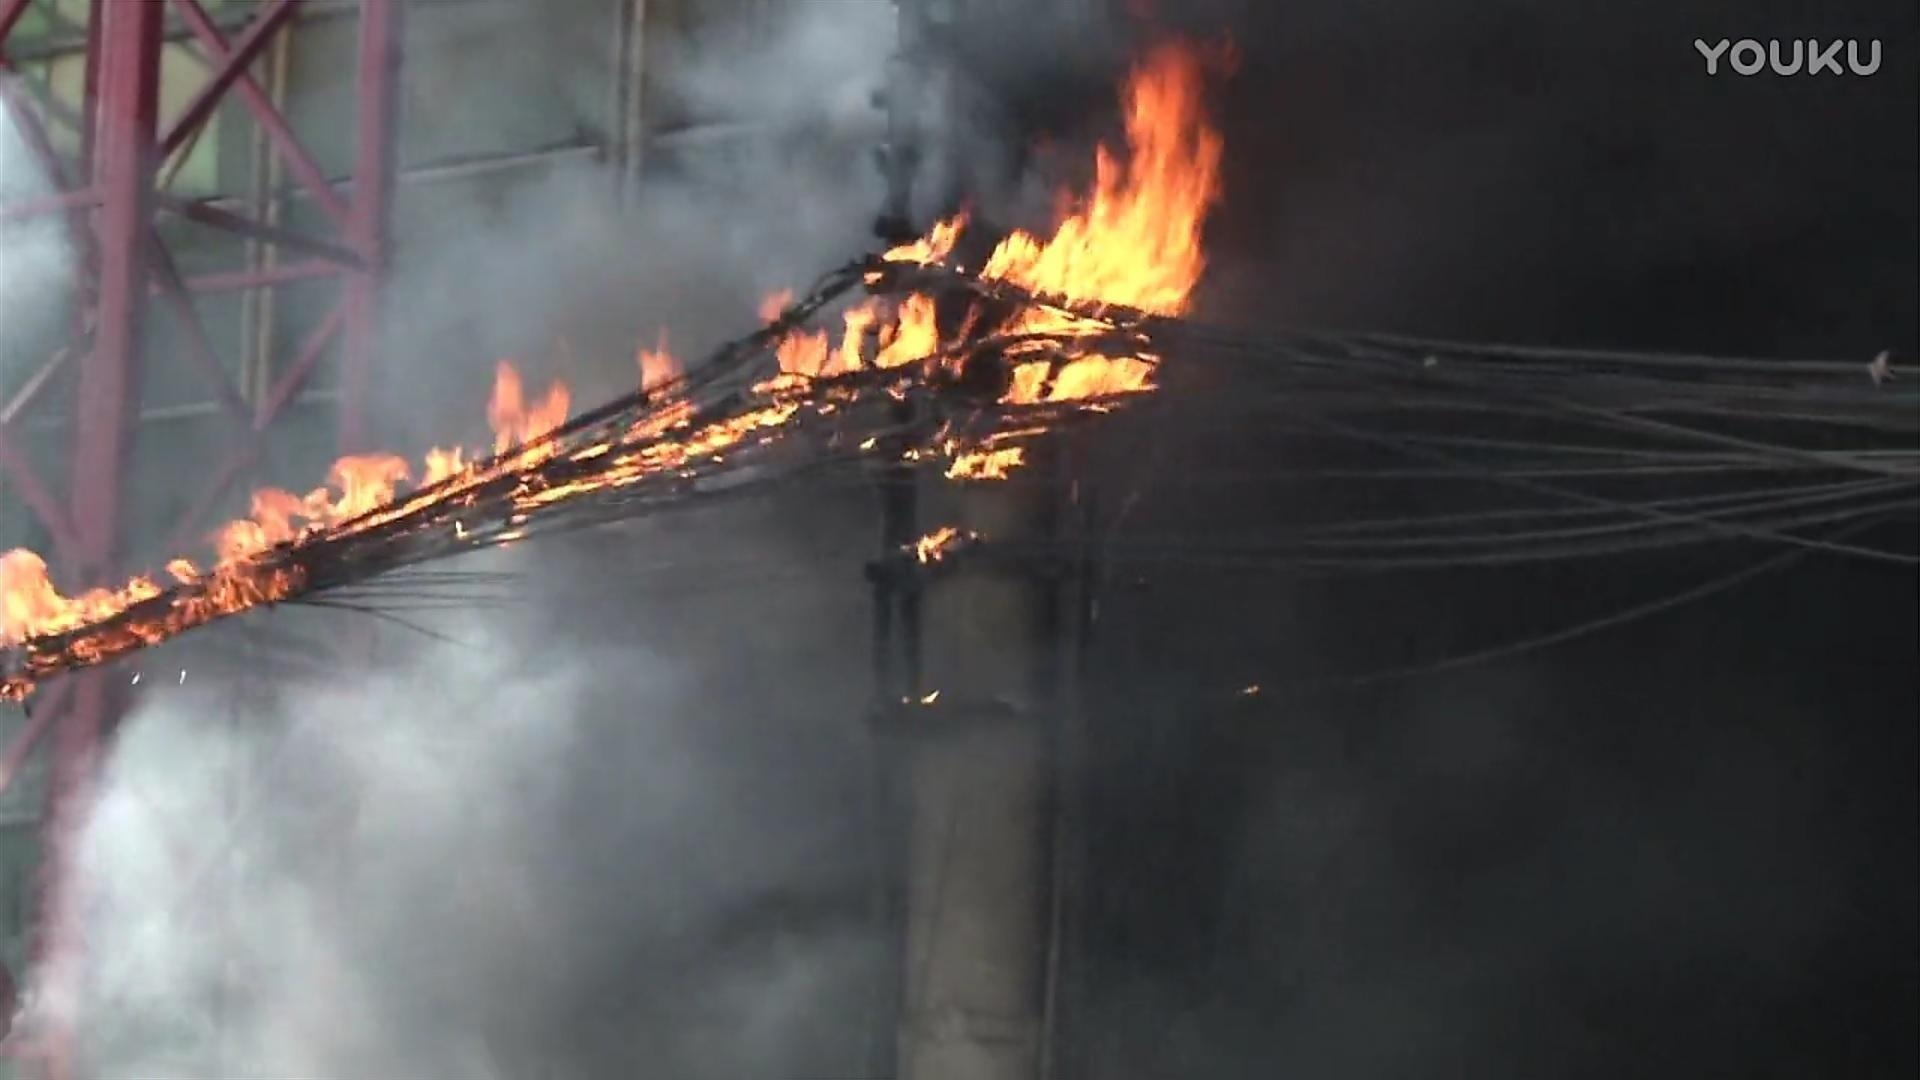fire: (32, 145, 1255, 638)
